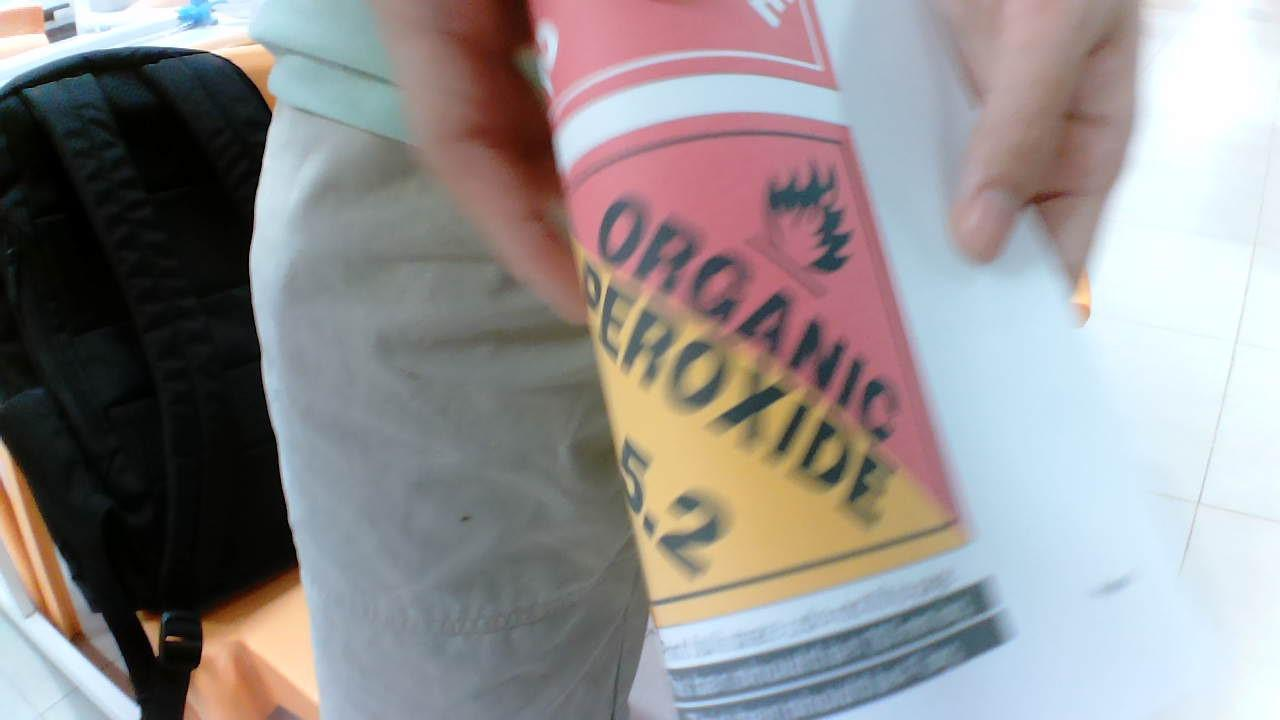flammable: (524, 1, 850, 87)
organic-peroxide: (547, 123, 971, 612)
